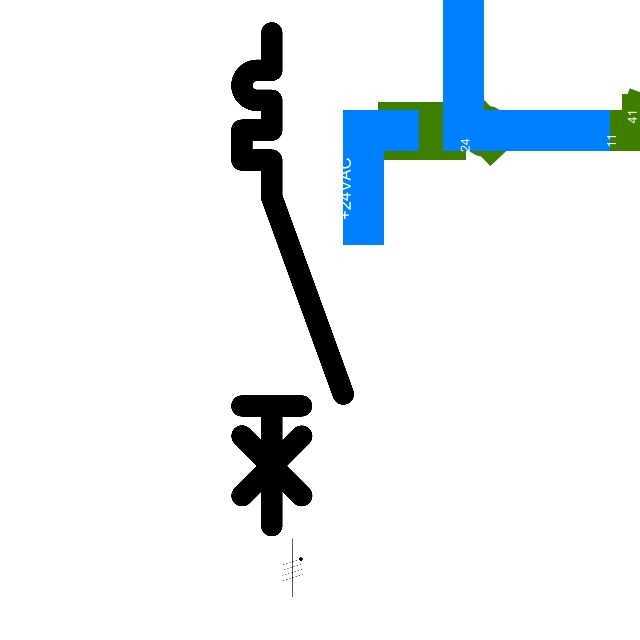interruptor_termomagnetico: (229, 20, 356, 539)
